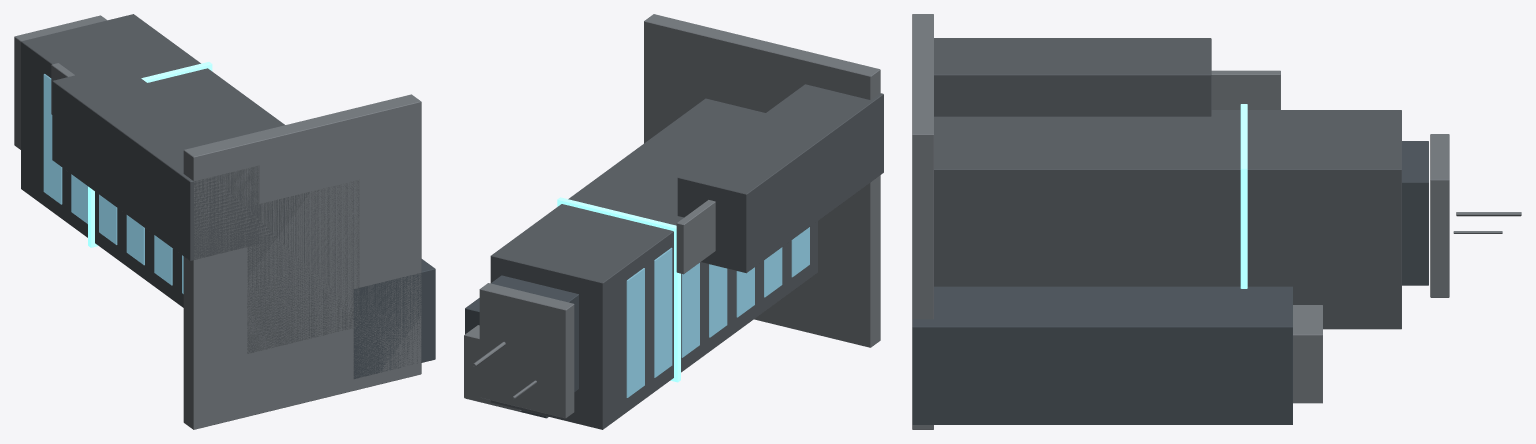
The model's file is mass_tower_cluster_yard_r.glb.
The picture shows the model from 3 angles, left to right: view 1: azimuth 30°, elevation 25°; view 2: azimuth 150°, elevation 25°; view 3: azimuth 270°, elevation 25°; orthographic projection. The views are drawn at different scales.
Parts seen in each view (by area): view 1: FlightKit_MassTower_yard_R; view 2: FlightKit_MassTower_yard_R; view 3: FlightKit_MassTower_yard_R.
Boxes of the visible parts, x1,y1,x2,y2 form: FlightKit_MassTower_yard_R: [14, 14, 435, 429]; FlightKit_MassTower_yard_R: [464, 14, 883, 429]; FlightKit_MassTower_yard_R: [912, 14, 1521, 429].
Size of the model in its own units: 11.3 by 12 by 22.4.
